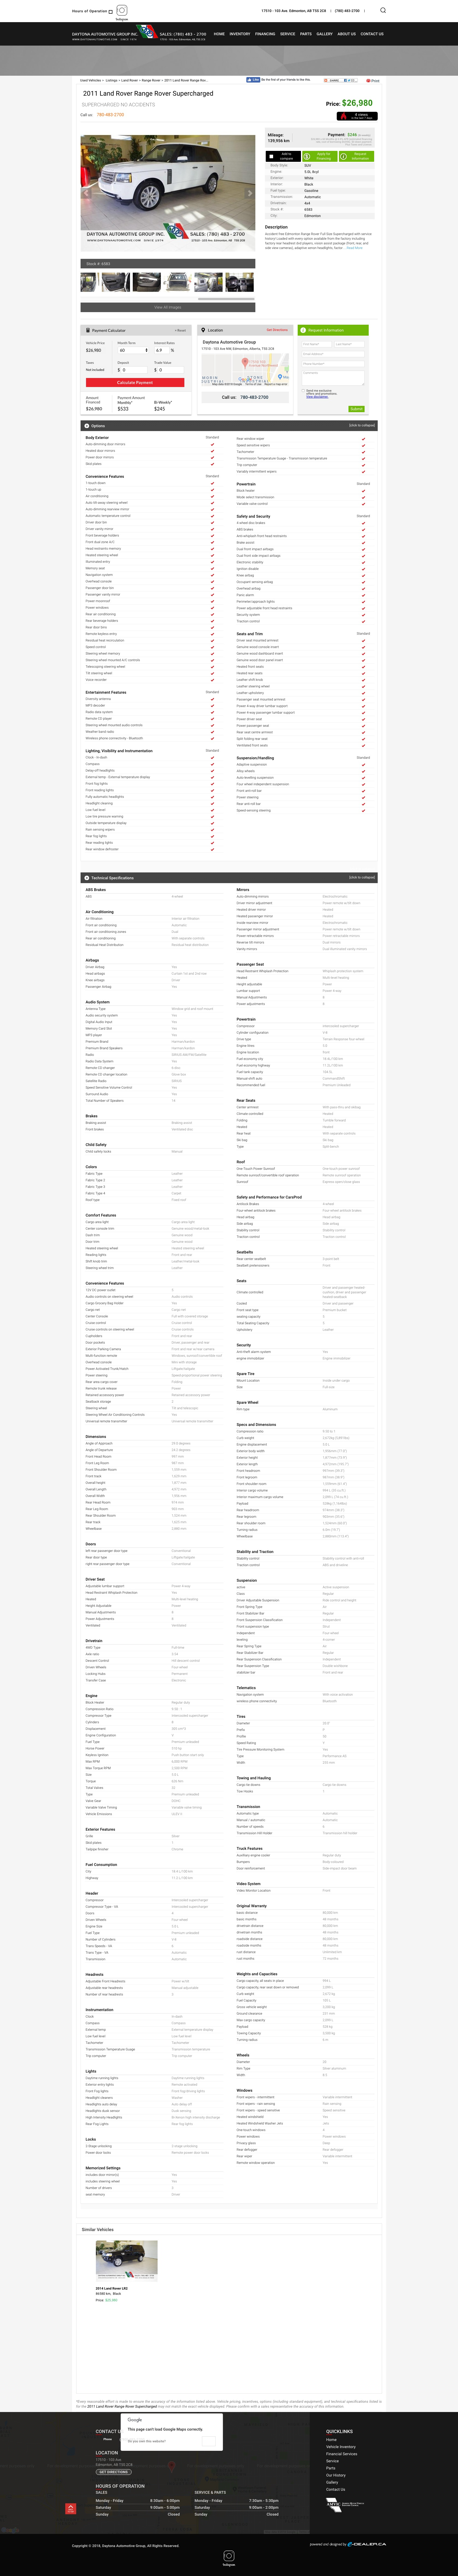car: (245, 187, 256, 200)
